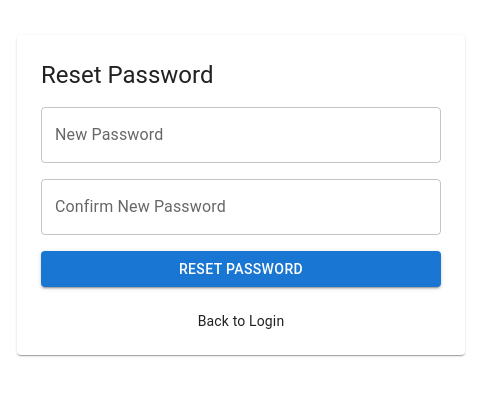
ResetPasswordForm › shows a validation error for a weak password
Type "abc" into the password field labelled "New Password" at (241, 135), box top-left (41, 107), bottom-right (441, 163)
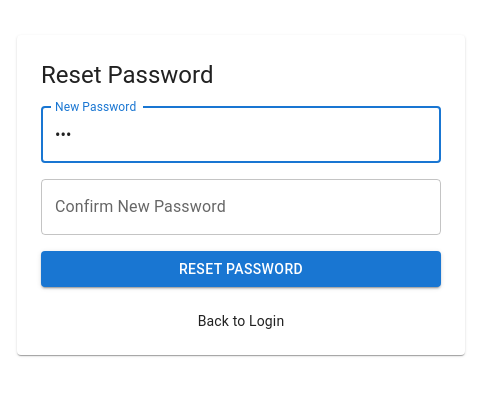
Click the button "Reset Password" at (241, 269), box top-left (41, 251), bottom-right (441, 287)
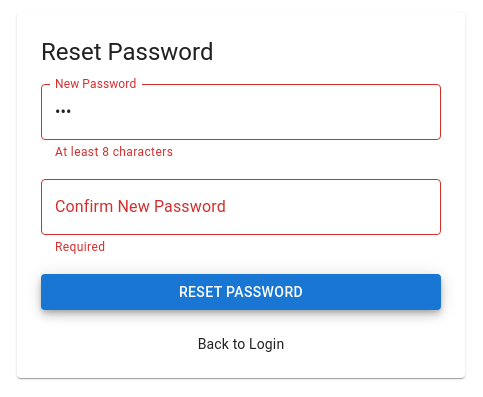
Result: the text "At least 8 characters" is shown at top-left (55, 145), bottom-right (173, 159)
